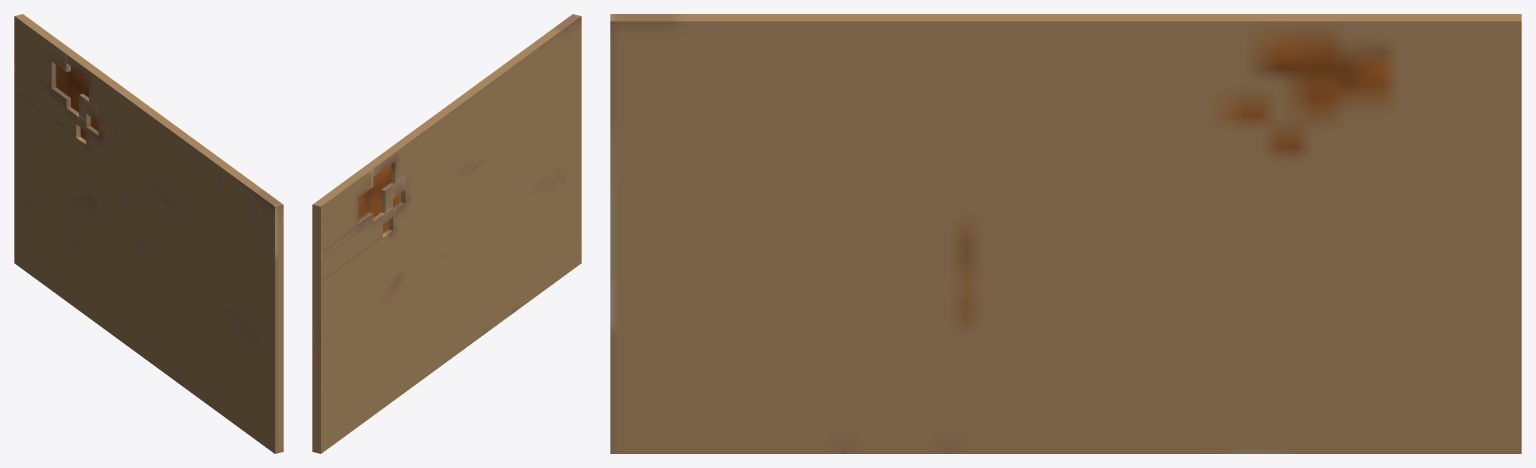
Rendered from WallBackSlightlyDamaged_01.obj.
The picture shows the model from 3 angles, left to right: view 1: azimuth 30°, elevation 25°; view 2: azimuth 150°, elevation 25°; view 3: azimuth 270°, elevation 25°; orthographic projection. The views are drawn at different scales.
Visible parts, largest first — view 1: WallBackSlightlyDamaged_01; view 2: WallBackSlightlyDamaged_01; view 3: WallBackSlightlyDamaged_01.
Boxes of the visible parts, x1,y1,x2,y2 form: WallBackSlightlyDamaged_01: (14,14,283,453); WallBackSlightlyDamaged_01: (312,14,581,453); WallBackSlightlyDamaged_01: (610,14,1521,453).
Bounding box in the file's own units: 0.1 × 2.75 × 5.25.
